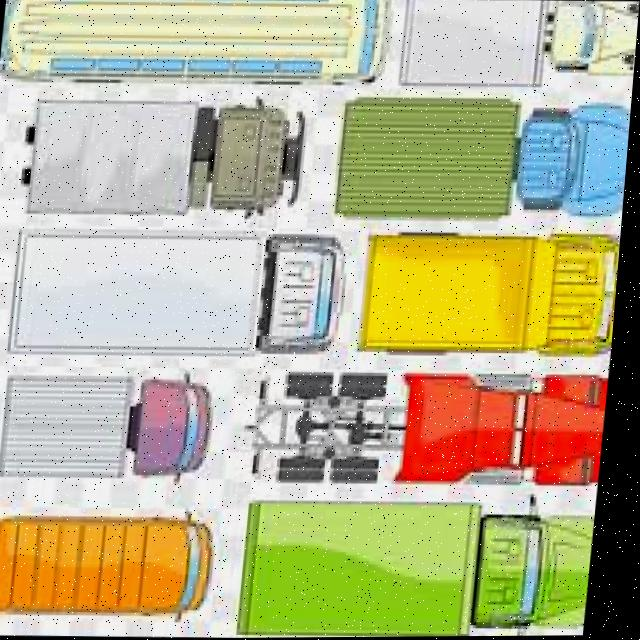truck: (249, 498, 604, 638), (259, 363, 615, 485), (12, 229, 353, 356), (338, 89, 634, 222), (26, 94, 313, 220), (362, 230, 625, 356), (3, 375, 223, 482), (0, 515, 223, 618)
